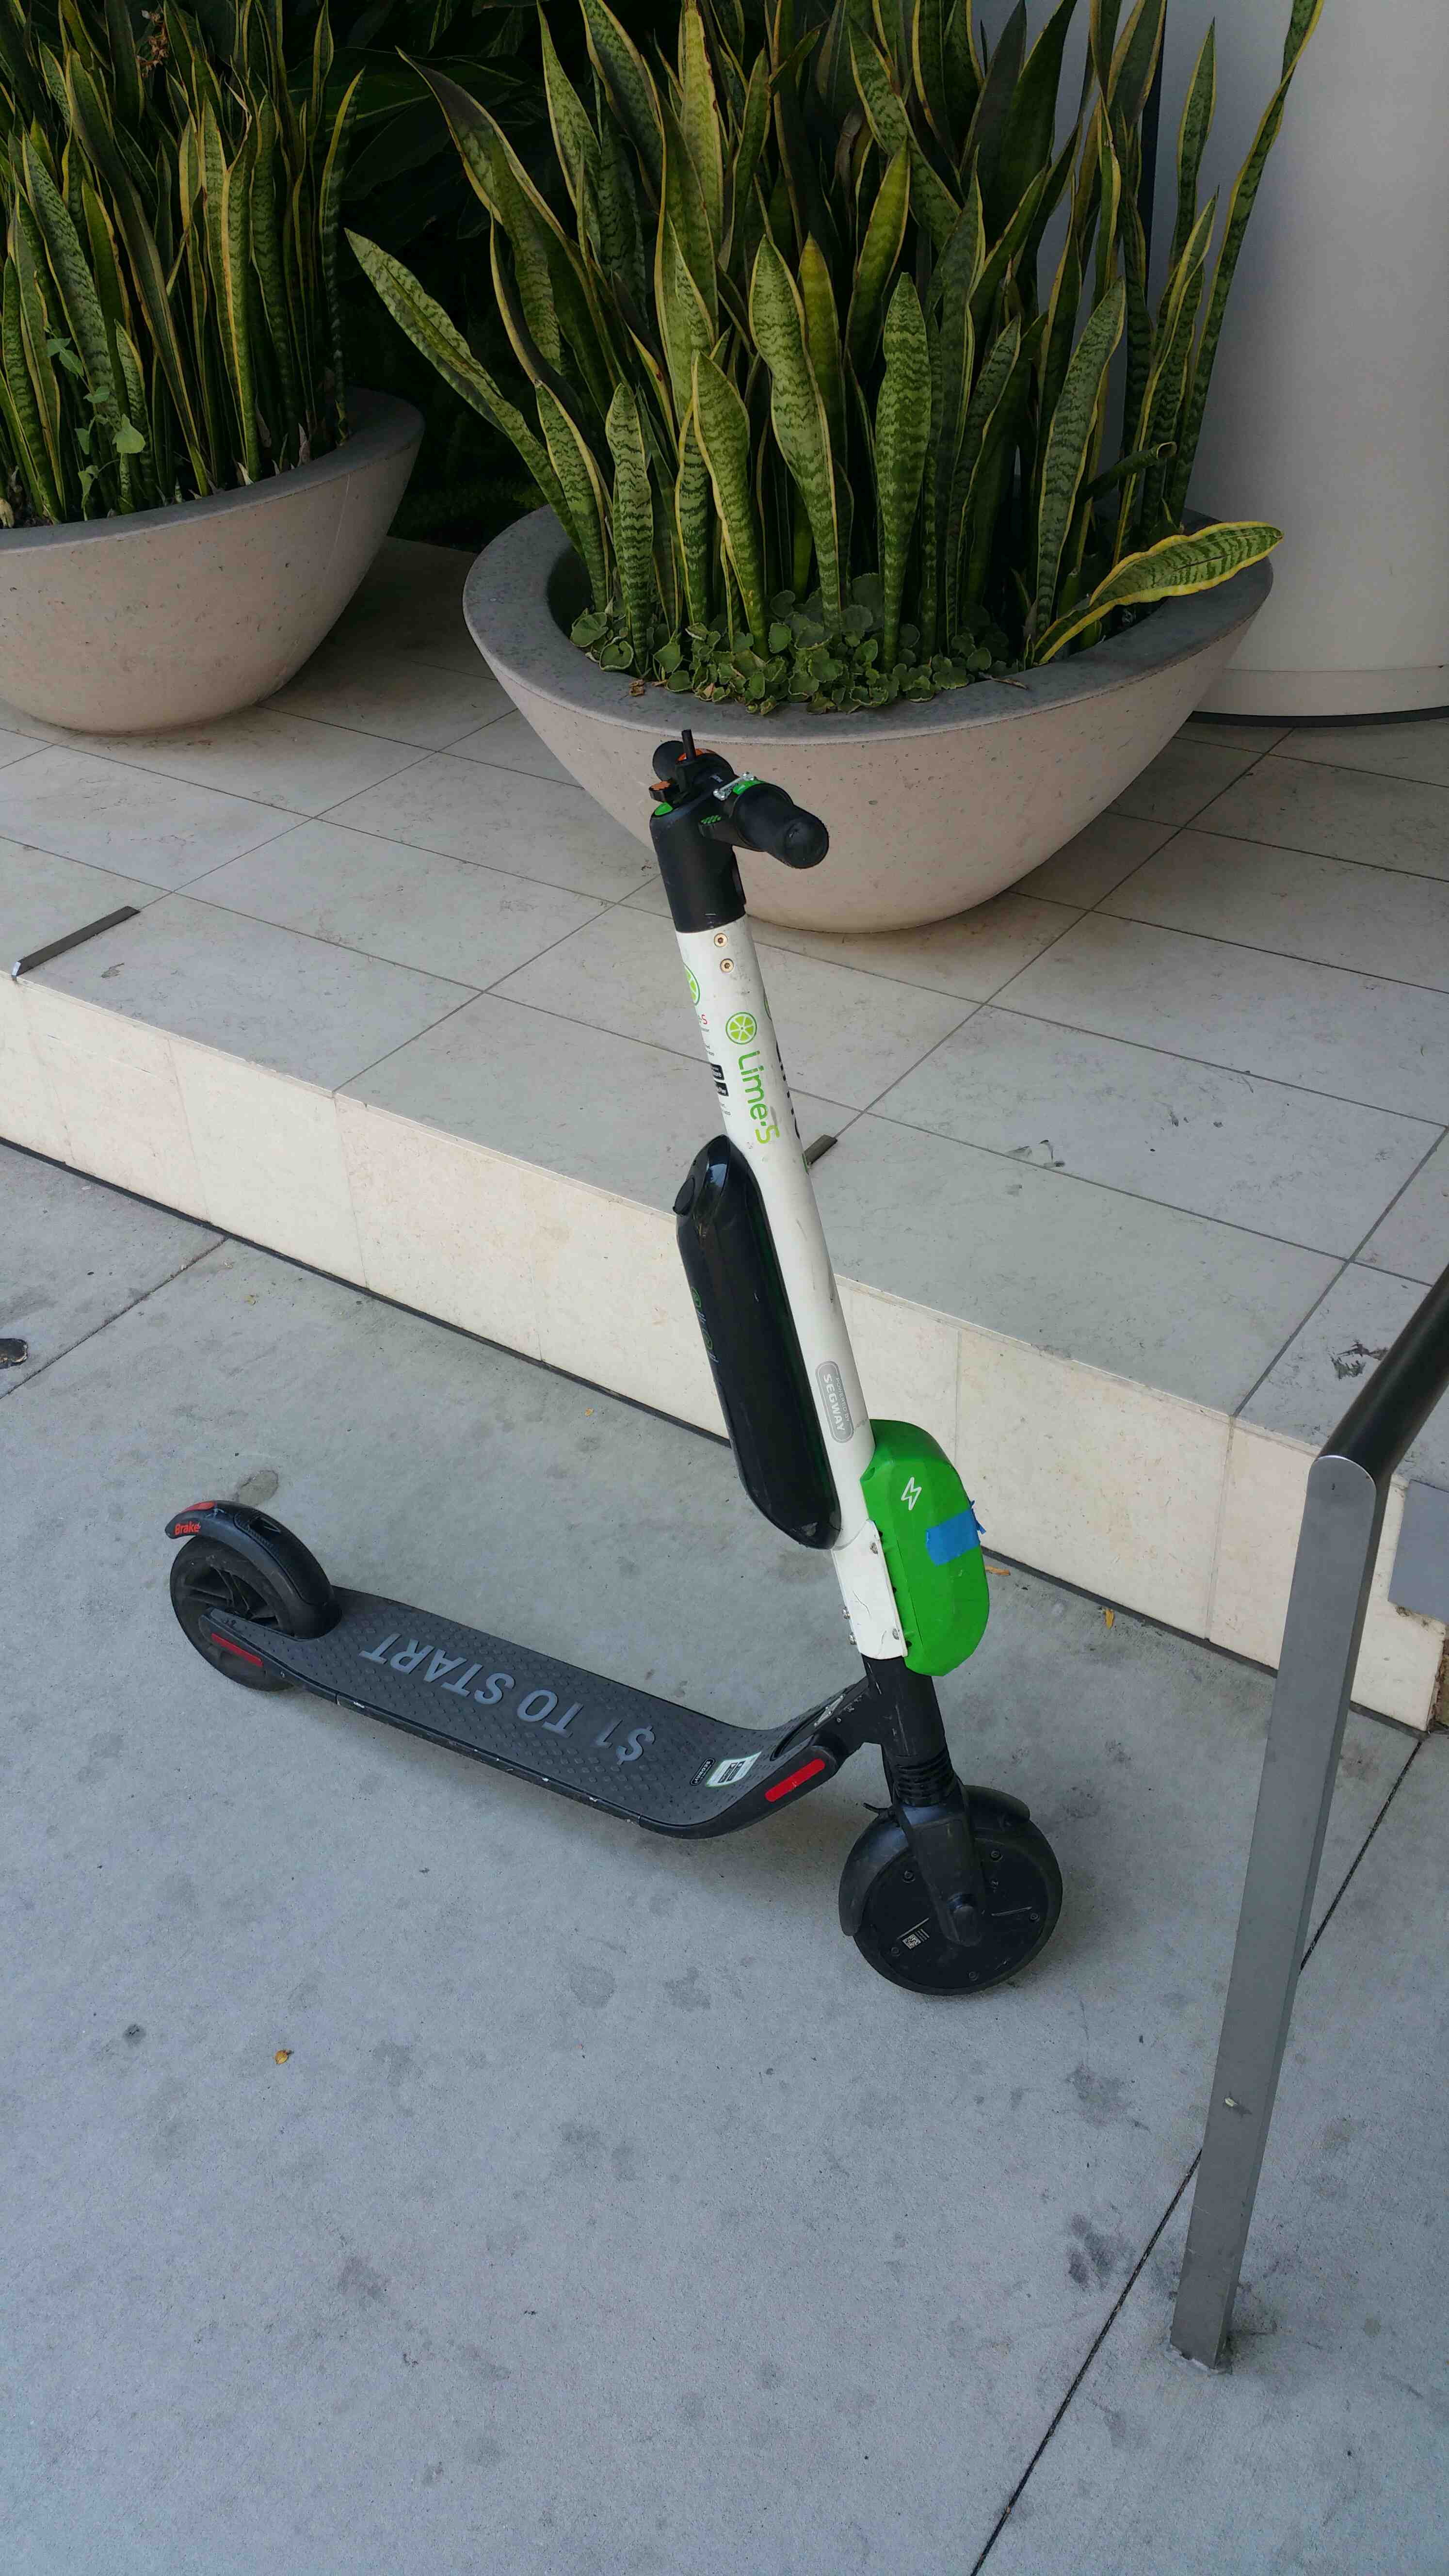scooter: (119, 667, 1113, 2059)
